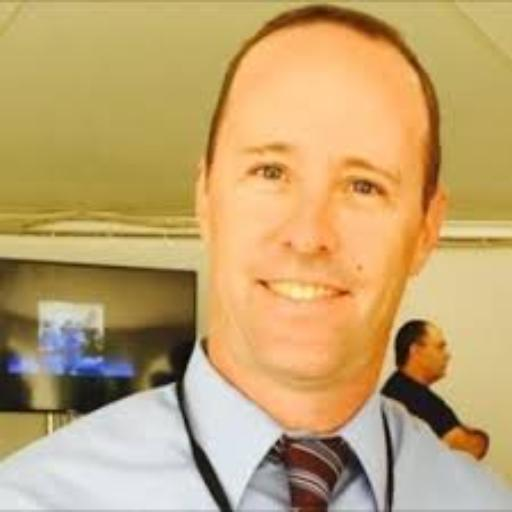left_eye: (341, 178, 389, 203)
left_lip_corner: (338, 286, 357, 304)
right_eye: (245, 162, 294, 187)
right_lip_corner: (253, 275, 273, 295)
